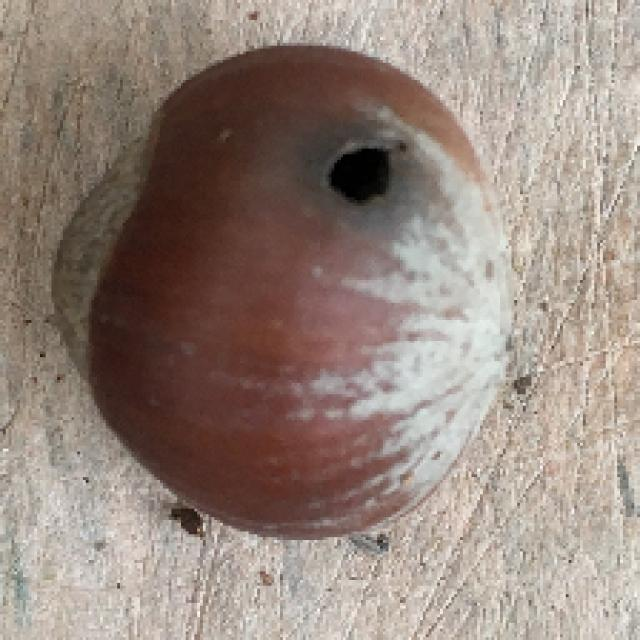damagedHazelnut: (57, 36, 530, 542)
